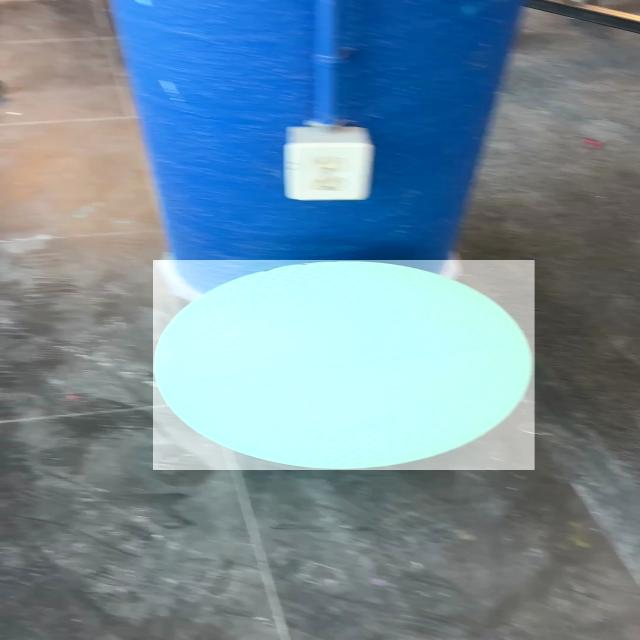Algae: (154, 260, 536, 470)
